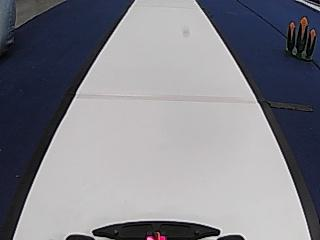corn: (280, 14, 319, 61)
